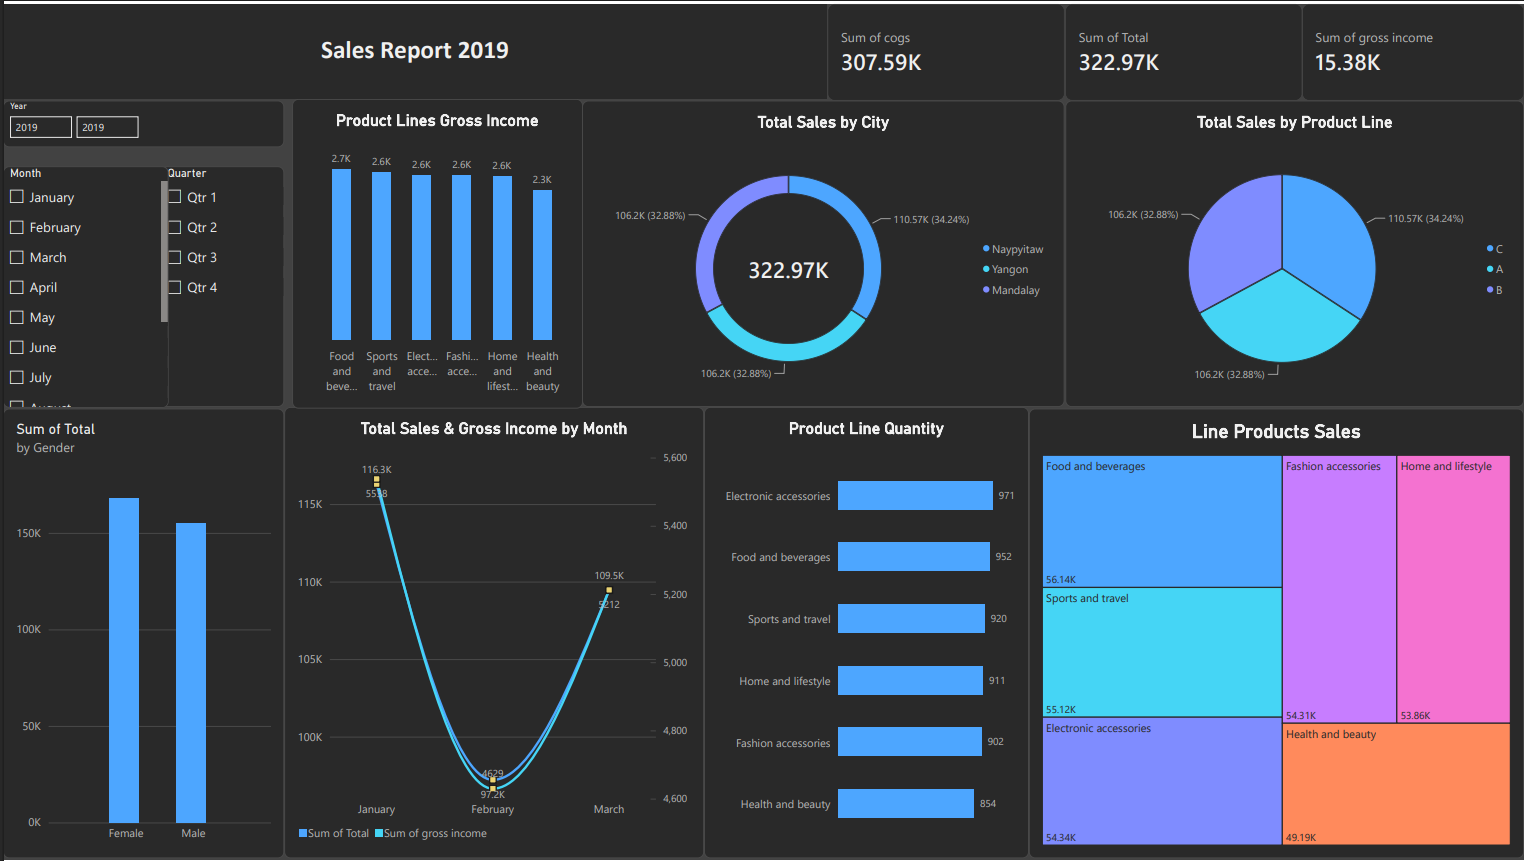

The page's visual inventory and layout, read from the dashboard file:
{"tool":"powerbi","page":{"name":"Page 1","canvas":[1920,1080],"ordinal":0},"visuals":[{"type":"cardVisual","fields":{"Data":["Sum(supermarket_sales.gross income)"]},"box":[1640,0,280,122.1],"z":0},{"type":"cardVisual","title":"Total Sales","fields":{"Data":["Sum(supermarket_sales.Total)"]},"box":[1340.6,0,299.4,122.1],"z":1000},{"type":"cardVisual","fields":{"Data":["Sum(supermarket_sales.cogs)"]},"box":[1041.2,0,299.4,122.1],"z":1001},{"type":"pieChart","title":"Total Sales by Product Line","fields":{"Category":["supermarket_sales.Branch"],"Y":["Sum(supermarket_sales.Total)"]},"box":[1340.6,122.1,579.4,387.3],"z":1002},{"type":"treemap","title":"Line Products Sales","fields":{"Group":["supermarket_sales.Product line"],"Values":["Sum(supermarket_sales.Total)"]},"box":[1295.2,510.9,624.8,567.8],"z":1004},{"type":"donutChart","title":"Total Sales by City","fields":{"Category":["supermarket_sales.City"],"Y":["Sum(supermarket_sales.Total)"]},"box":[731.4,122.1,609.2,387.3],"z":1005},{"type":"columnChart","fields":{"Category":["supermarket_sales.Gender"],"Y":["Sum(supermarket_sales.Total)"]},"box":[0,510.9,355.1,567.8],"z":1006},{"type":"slicer","fields":{"Values":["supermarket_sales.Date.Variation.Date Hierarchy.Quarter"]},"box":[199.4,205.1,155.7,303.9],"z":1008},{"type":"slicer","fields":{"Values":["supermarket_sales.Date.Variation.Date Hierarchy.Month"]},"box":[0,205.1,208.7,305.5],"z":1009},{"type":"slicer","fields":{"Values":["supermarket_sales.Date.Variation.Date Hierarchy.Year"]},"box":[0,121.5,355.1,58.9],"z":1010},{"type":"lineChart","title":"Total Sales & Gross Income by Month","fields":{"Category":["supermarket_sales.Date.Variation.Date Hierarchy.Month"],"Y":["Sum(supermarket_sales.Total)"],"Y2":["Sum(supermarket_sales.gross income)"]},"box":[355.1,509,529.9,569.7],"z":1011},{"type":"columnChart","title":"Product Lines Gross Income","fields":{"Category":["supermarket_sales.Product line"],"Y":["Sum(supermarket_sales.gross income)"]},"box":[364.6,119.6,366.5,391.2],"z":1012},{"type":"barChart","title":"Product Line Quantity","fields":{"Category":["supermarket_sales.Product line"],"Y":["Sum(supermarket_sales.Quantity)"]},"box":[885,509,410,570],"z":1013},{"type":"textbox","title":"Sales Report 2019","box":[0,0,1040.5,119.3],"z":1014}]}

Visuals, with their boxes in screenshot pixels (x1, y1, x2, y2), scaled from the page's 1920x1080 canvas onto the 1524x861 screenshot:
cardVisual - Sum(supermarket_sales.gross income): 1302 0 1523 97
"Total Sales" cardVisual: 1064 0 1302 97
cardVisual - Sum(supermarket_sales.cogs): 826 0 1064 97
"Total Sales by Product Line" pieChart: 1064 97 1523 406
"Line Products Sales" treemap: 1028 407 1523 860
"Total Sales by City" donutChart: 581 97 1064 406
columnChart - supermarket_sales.Gender x Sum(supermarket_sales.Total): 0 407 282 860
slicer - supermarket_sales.Date.Variation.Date Hierarchy.Quarter: 158 164 282 406
slicer - supermarket_sales.Date.Variation.Date Hierarchy.Month: 0 164 166 407
slicer - supermarket_sales.Date.Variation.Date Hierarchy.Year: 0 97 282 144
"Total Sales & Gross Income by Month" lineChart: 282 406 702 860
"Product Lines Gross Income" columnChart: 289 95 580 407
"Product Line Quantity" barChart: 702 406 1028 860
"Sales Report 2019" textbox: 0 0 826 95
